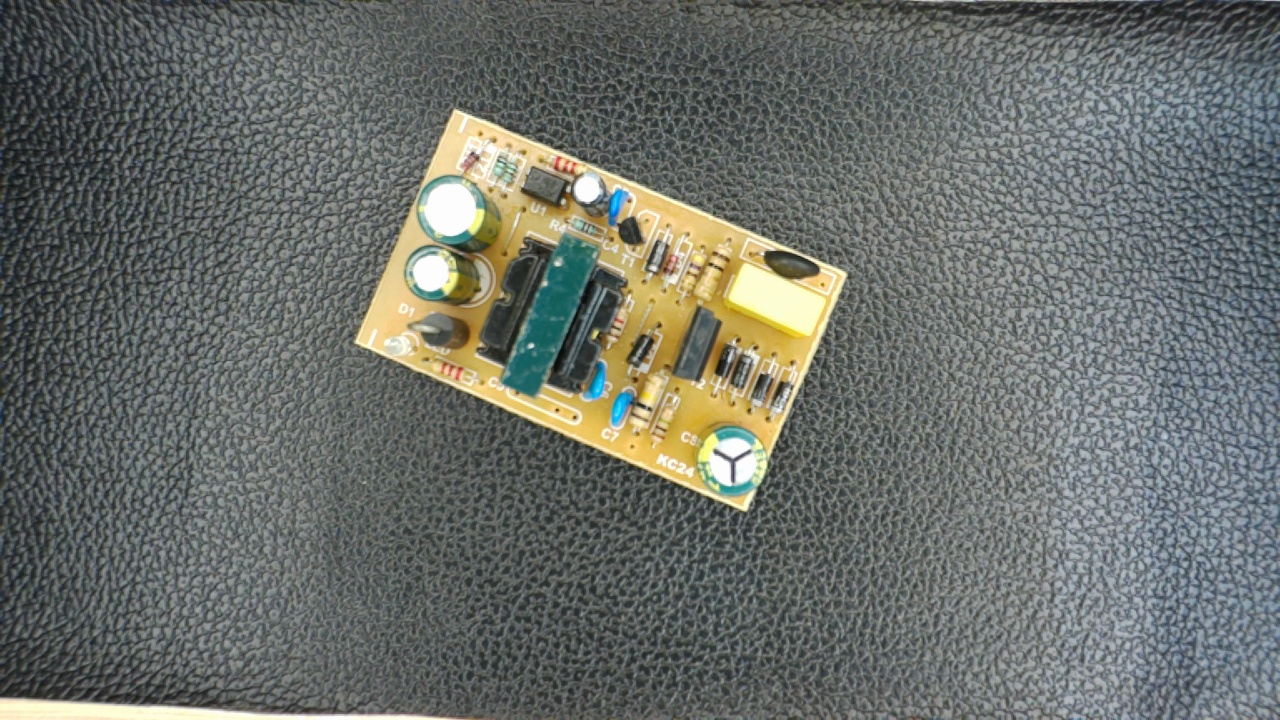fuse: (747, 242, 825, 284)
hv_capacitor: (687, 417, 771, 500)
optocoupler: (513, 159, 575, 215)
